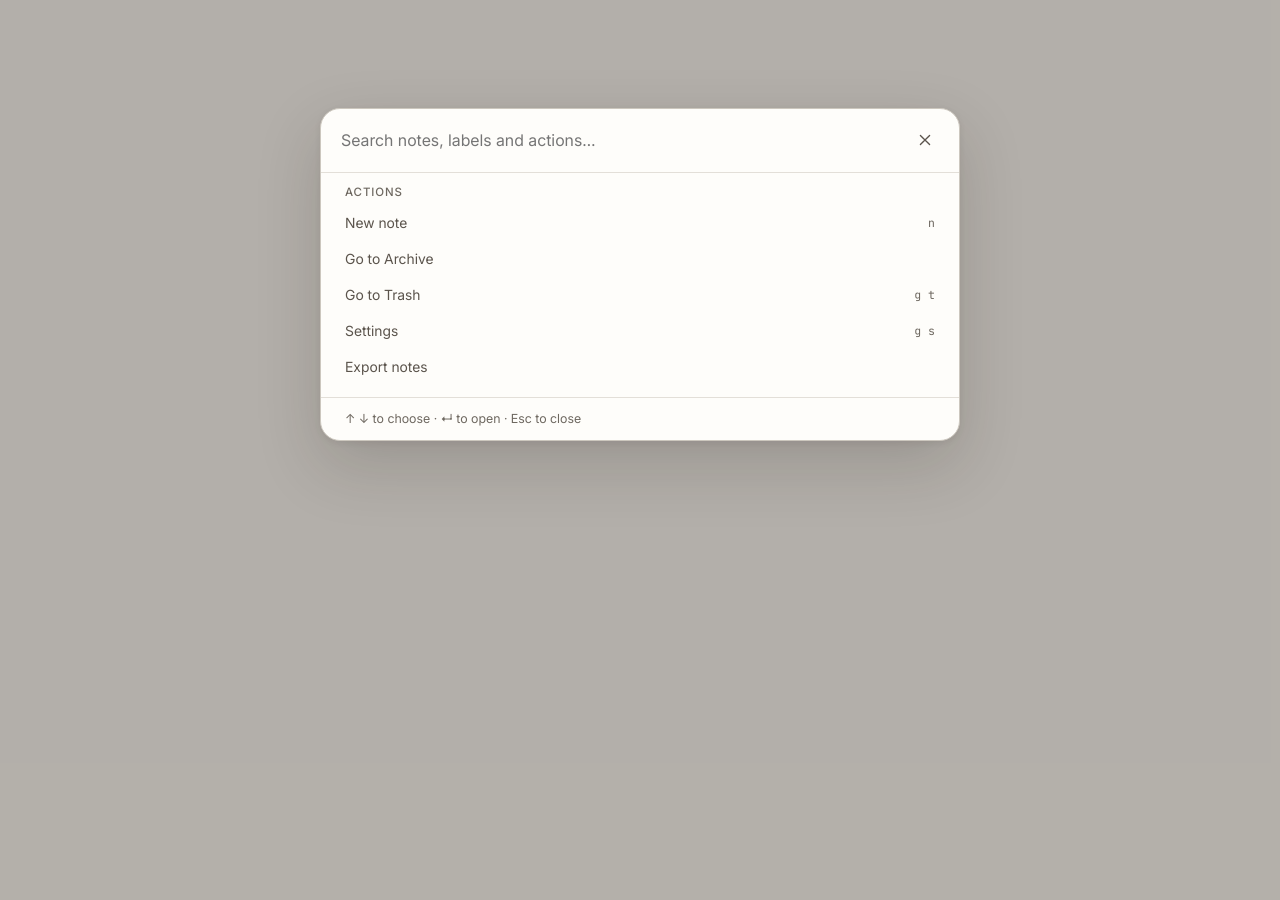
it: keeps command-by-title opening the question form
The width and height of the screenshot is (1280, 900).
Type "Ask your notes" into the field named "Search and commands" at (612, 140), box [321,109,903,172]
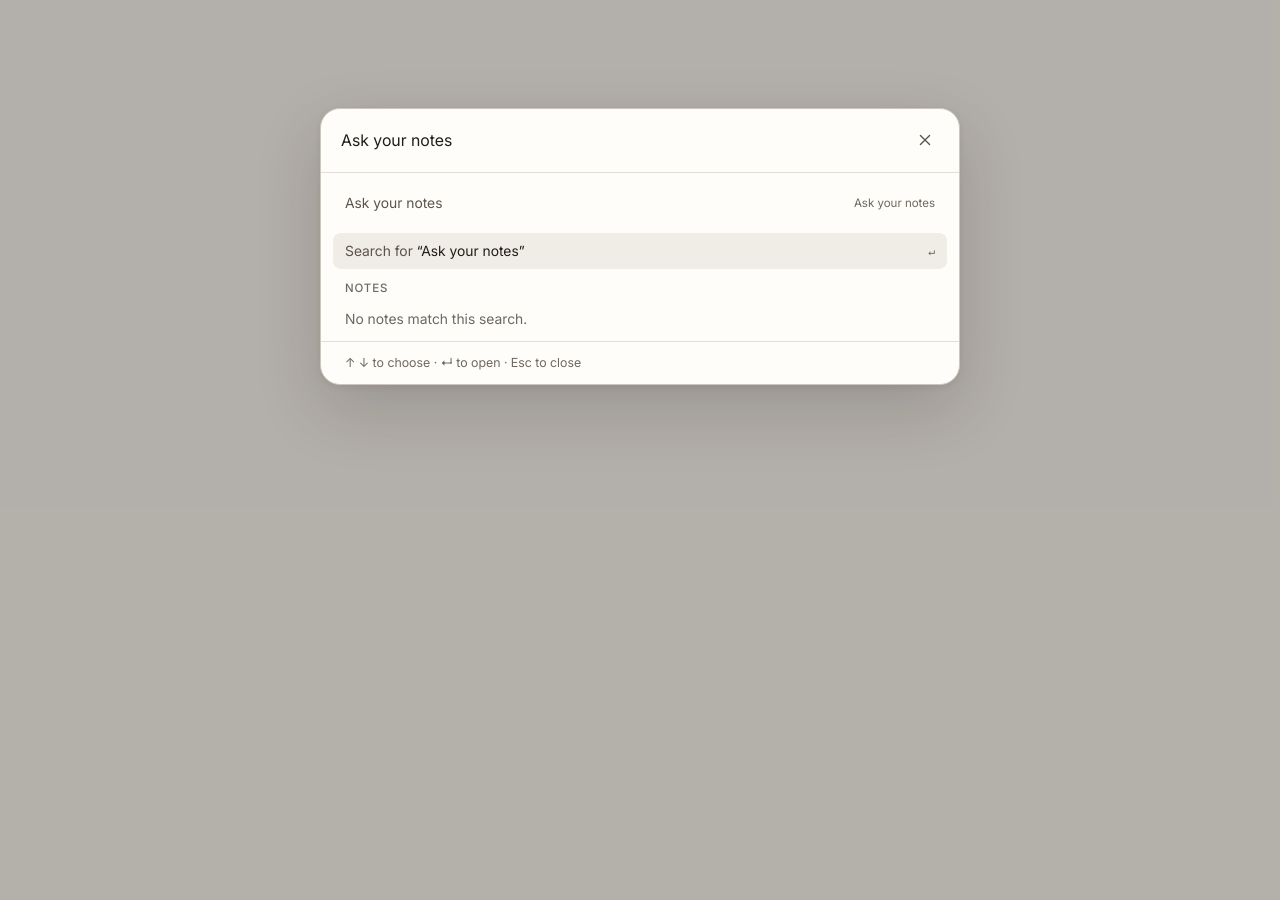
Click the option "Ask your notes Ask your notes" at (394, 202), box [333,185,947,221]
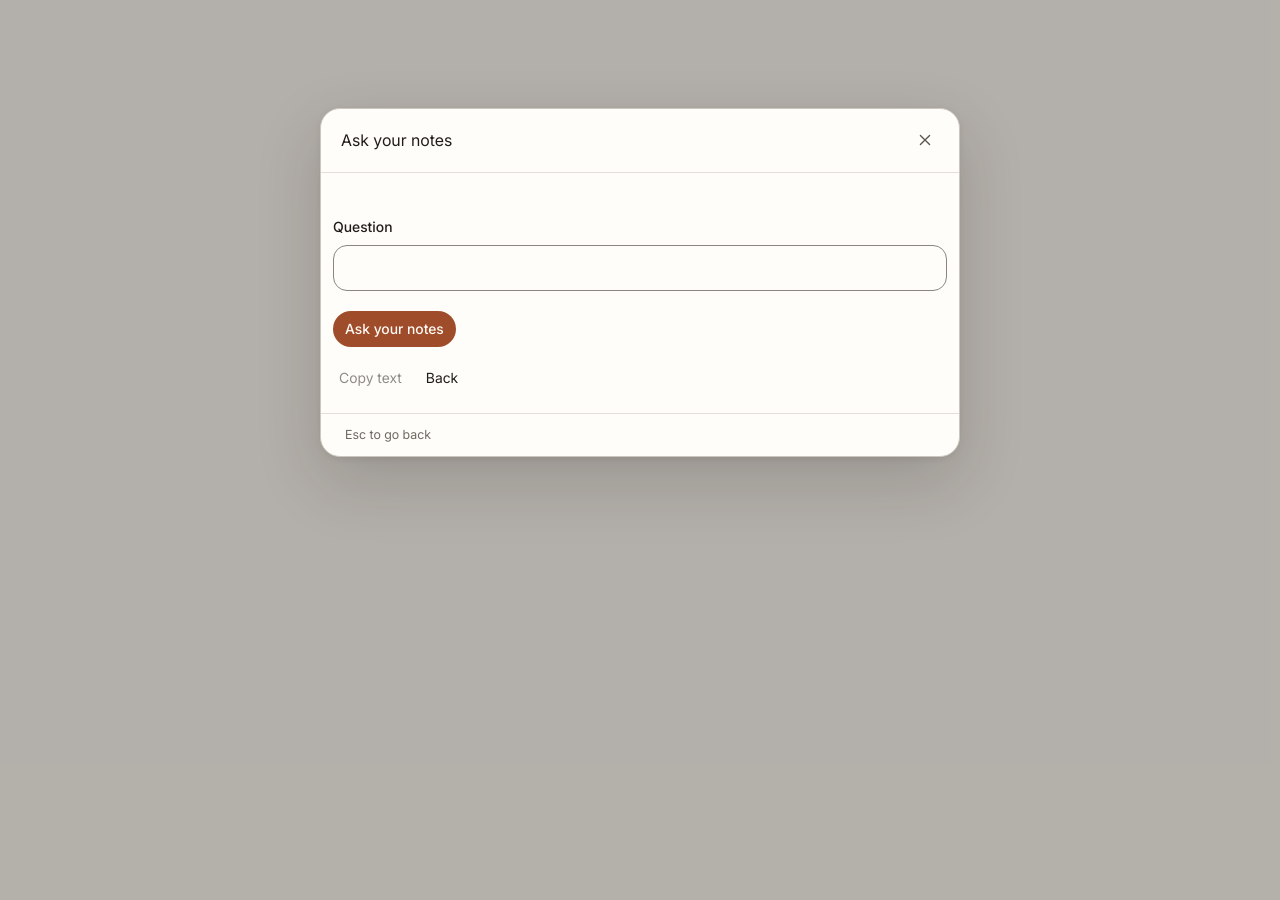
Check: the field labelled "Question" is shown, box [333,245,947,291]
